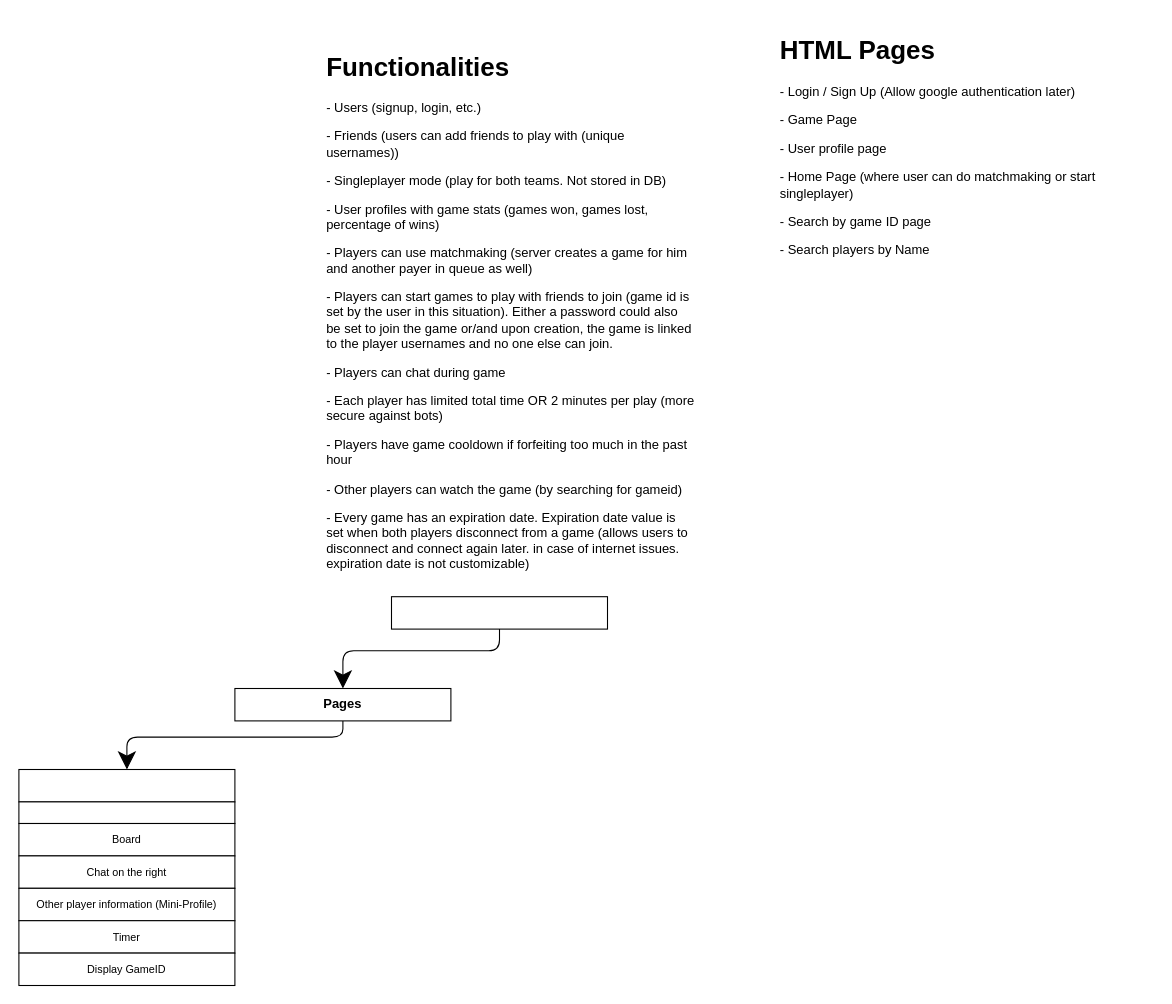
This 1172x1004 diagram has some shape labels left out. Here are the shapes that lost their labels. From the top down, the box of each, then its label:
(390, 596, 608, 629): User Interface (React)
(18, 768, 235, 802): Game
(18, 801, 235, 824): Page displayed when player is playing a game
